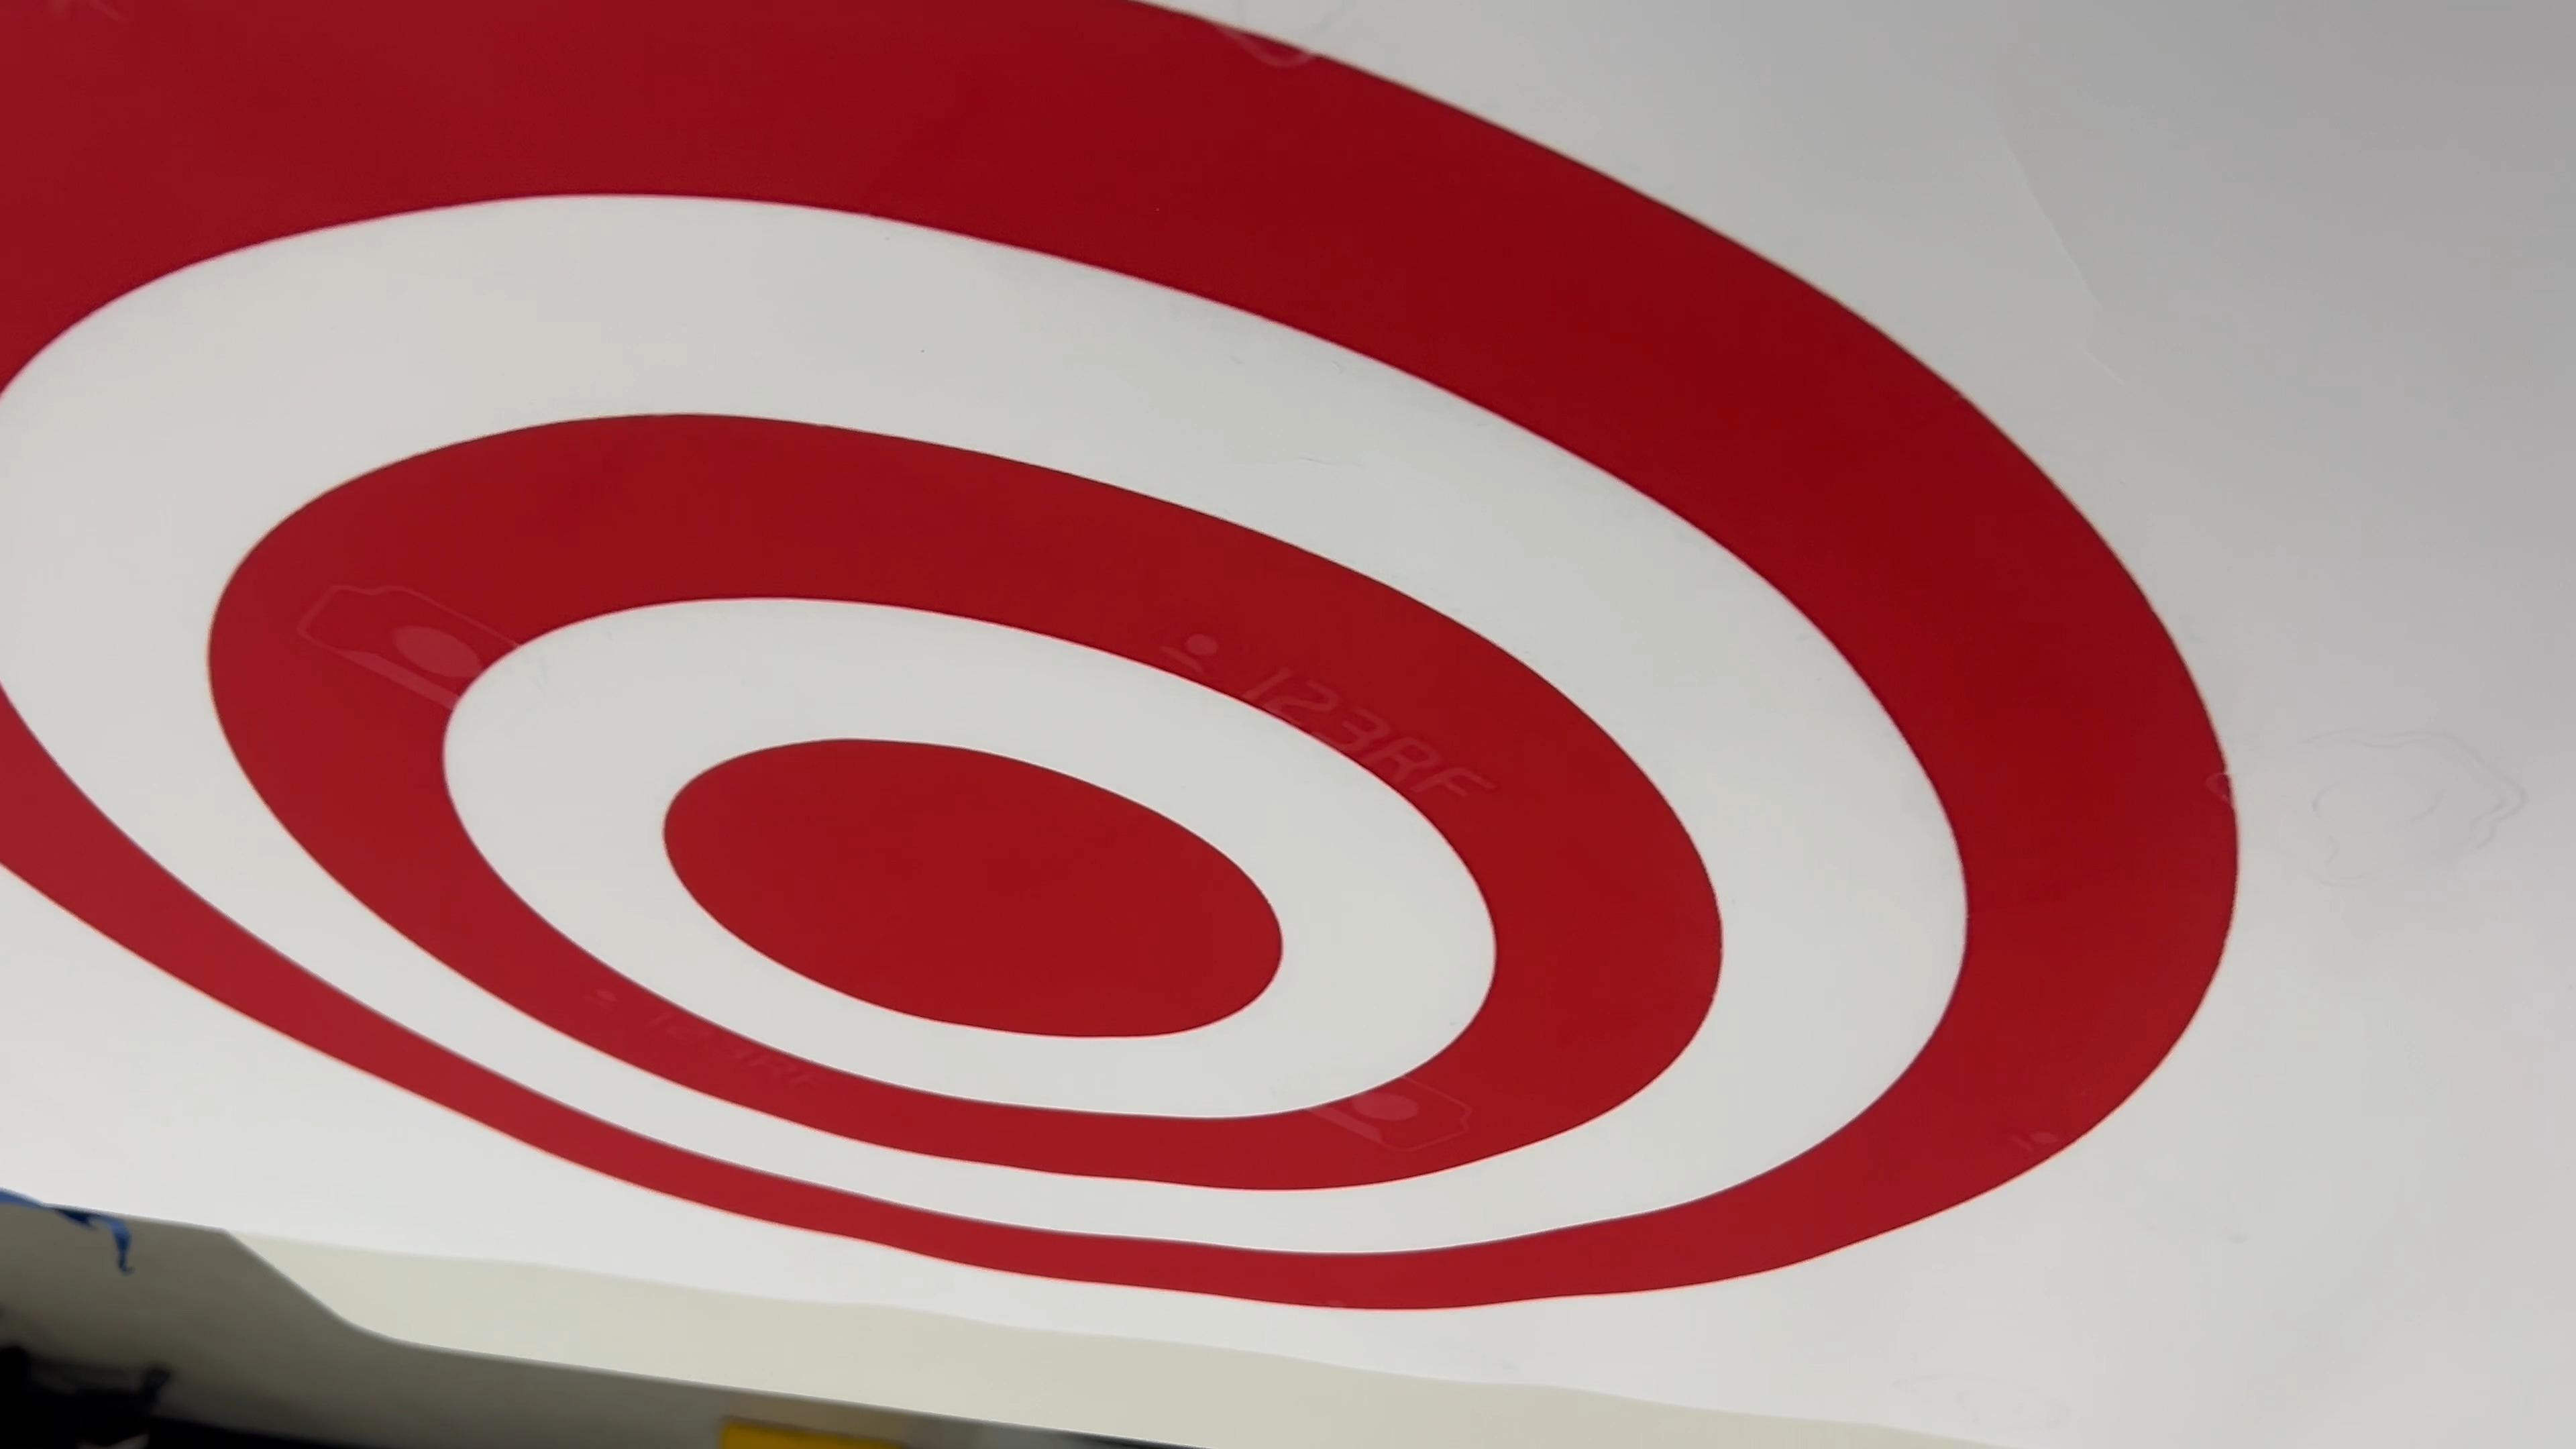target_red: (0, 0, 2282, 1350)
